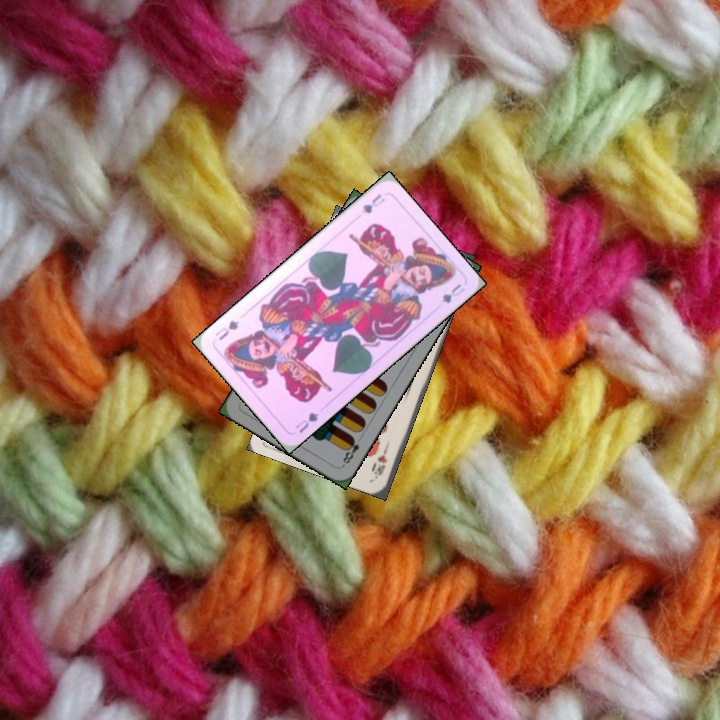E8: (338, 432, 365, 469)
GU: (291, 408, 322, 436), (357, 190, 388, 216)
H10: (370, 440, 391, 480)
